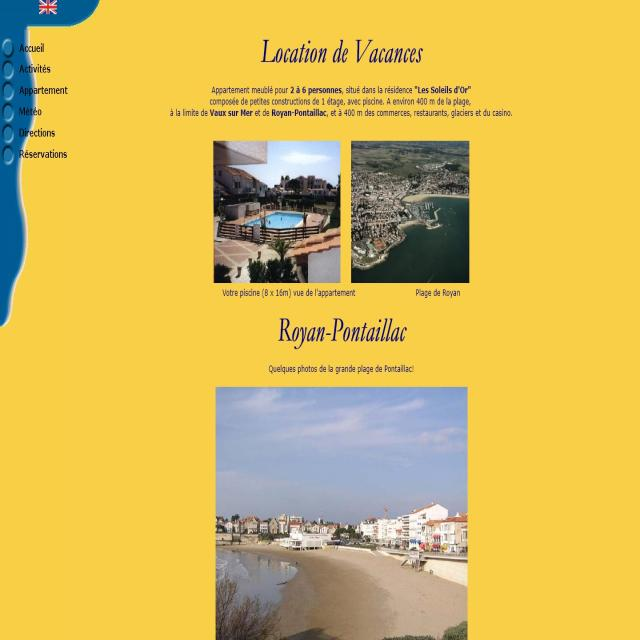button: (1, 144, 69, 167), (1, 101, 69, 123), (1, 79, 70, 100), (2, 122, 68, 142), (2, 59, 54, 79), (2, 37, 47, 57)
heading: (258, 32, 425, 68), (277, 312, 410, 348)
image: (0, 0, 640, 640), (215, 385, 466, 640), (214, 139, 341, 283), (351, 140, 470, 283)
text: (161, 79, 518, 124), (268, 359, 416, 378), (221, 286, 356, 300), (416, 287, 462, 299)
